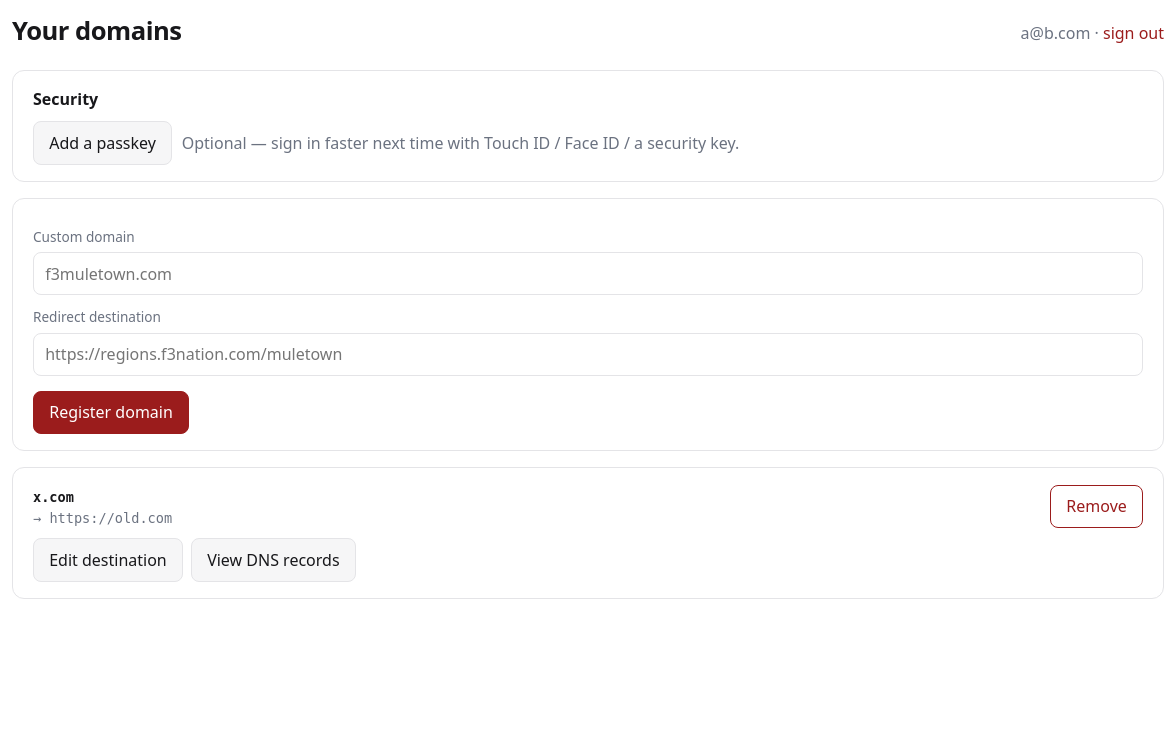
Test: Dashboard › edits a destination in place (PUT) and shows the new value
This screenshot has width=1176, height=732.
Click the button "Edit destination" at (108, 560), box [33,538,183,582]
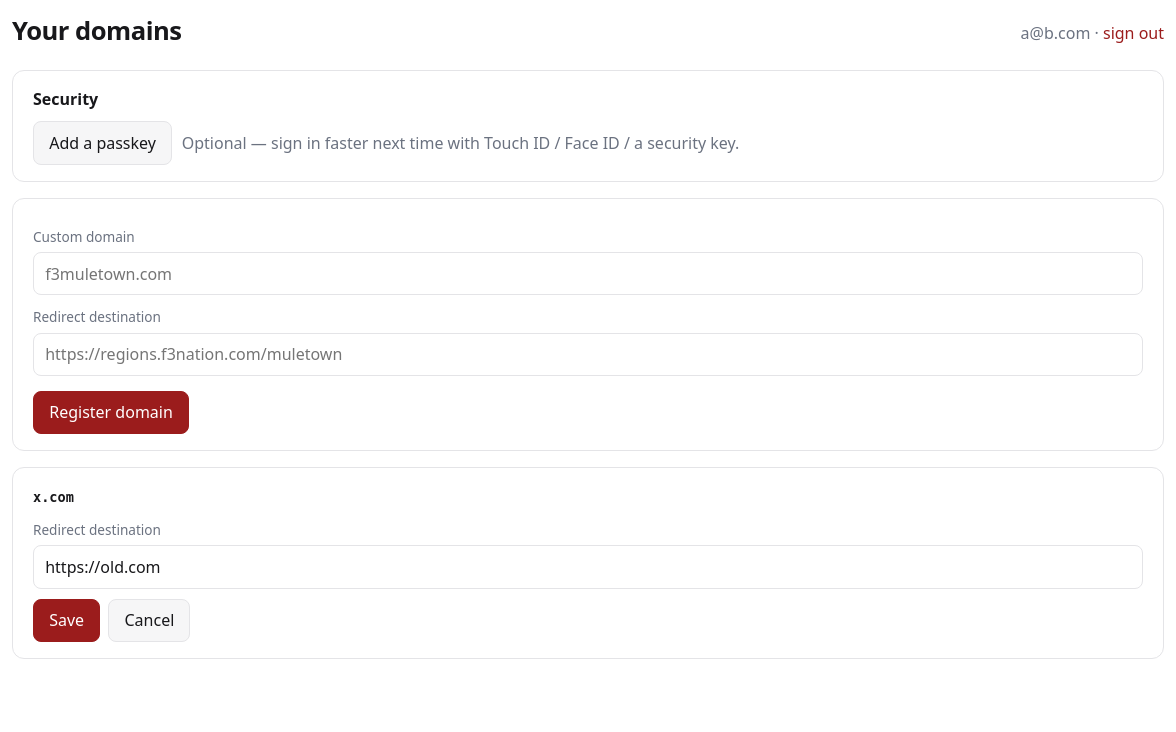
Replace the text in the field showing "https://old.com" below "x.com" with "https://new.com" at (588, 567), box [33,545,1143,589]
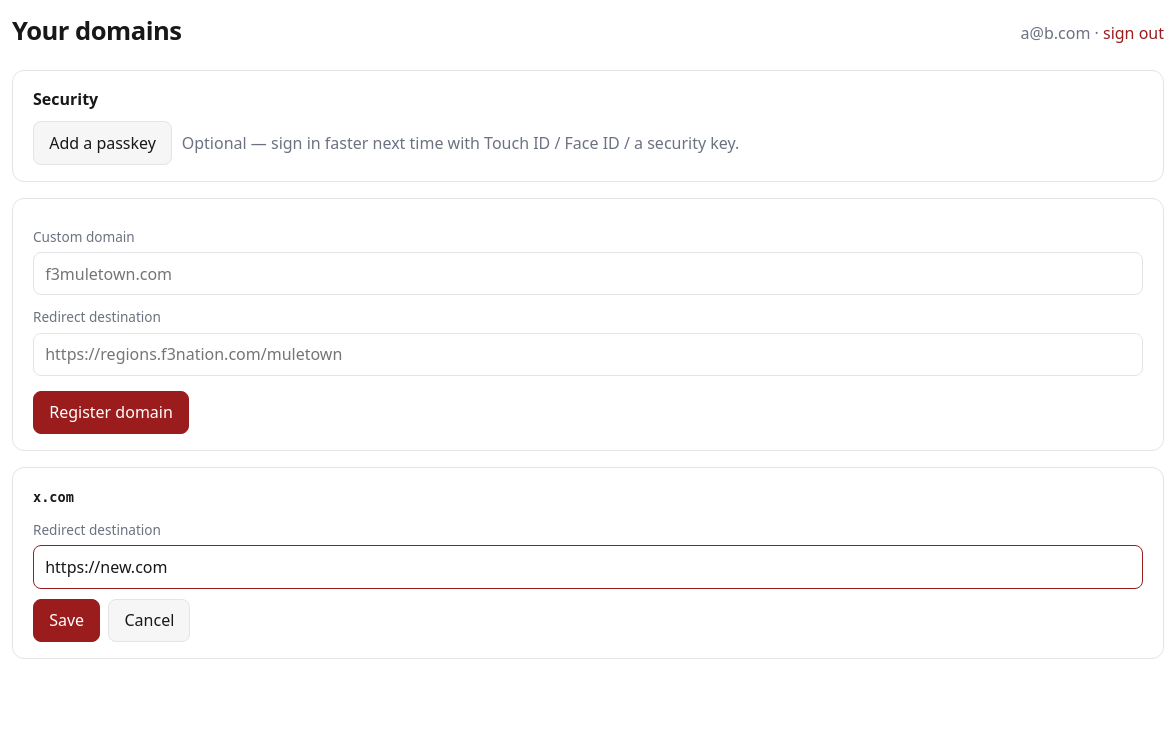
Click the button "Save" at (67, 620), box [33,598,100,642]
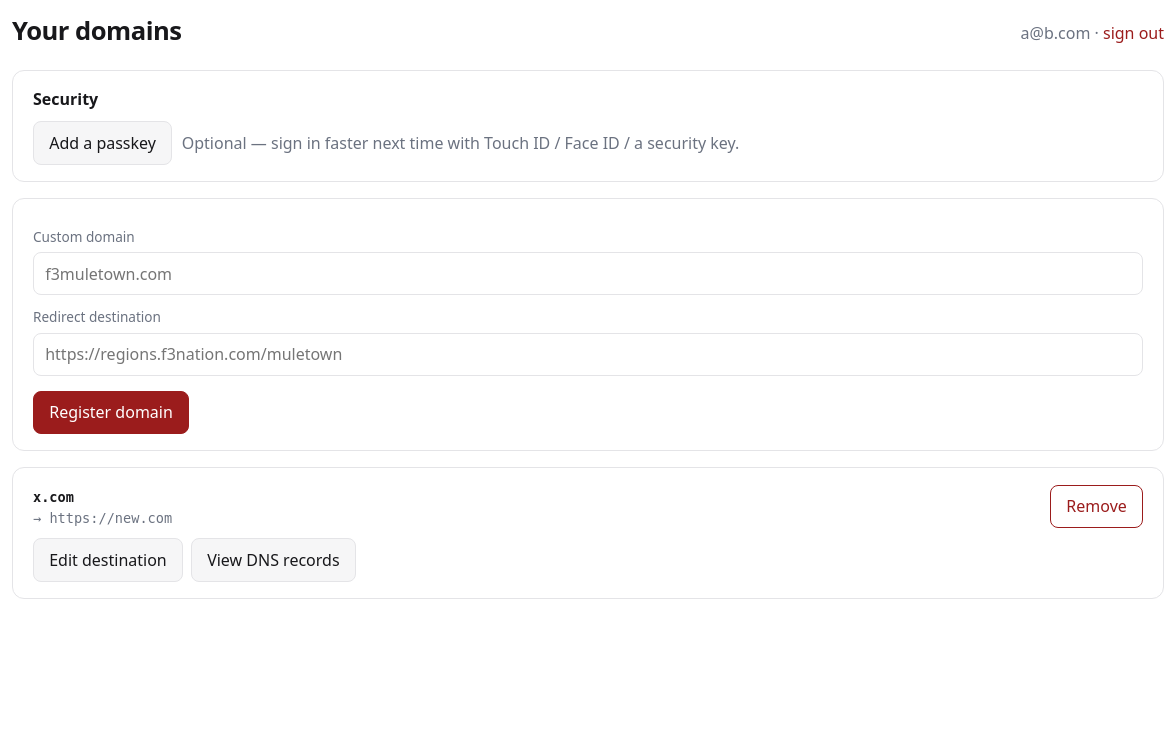
Now the text "https://new.com" is shown, box [49,510,172,526]
